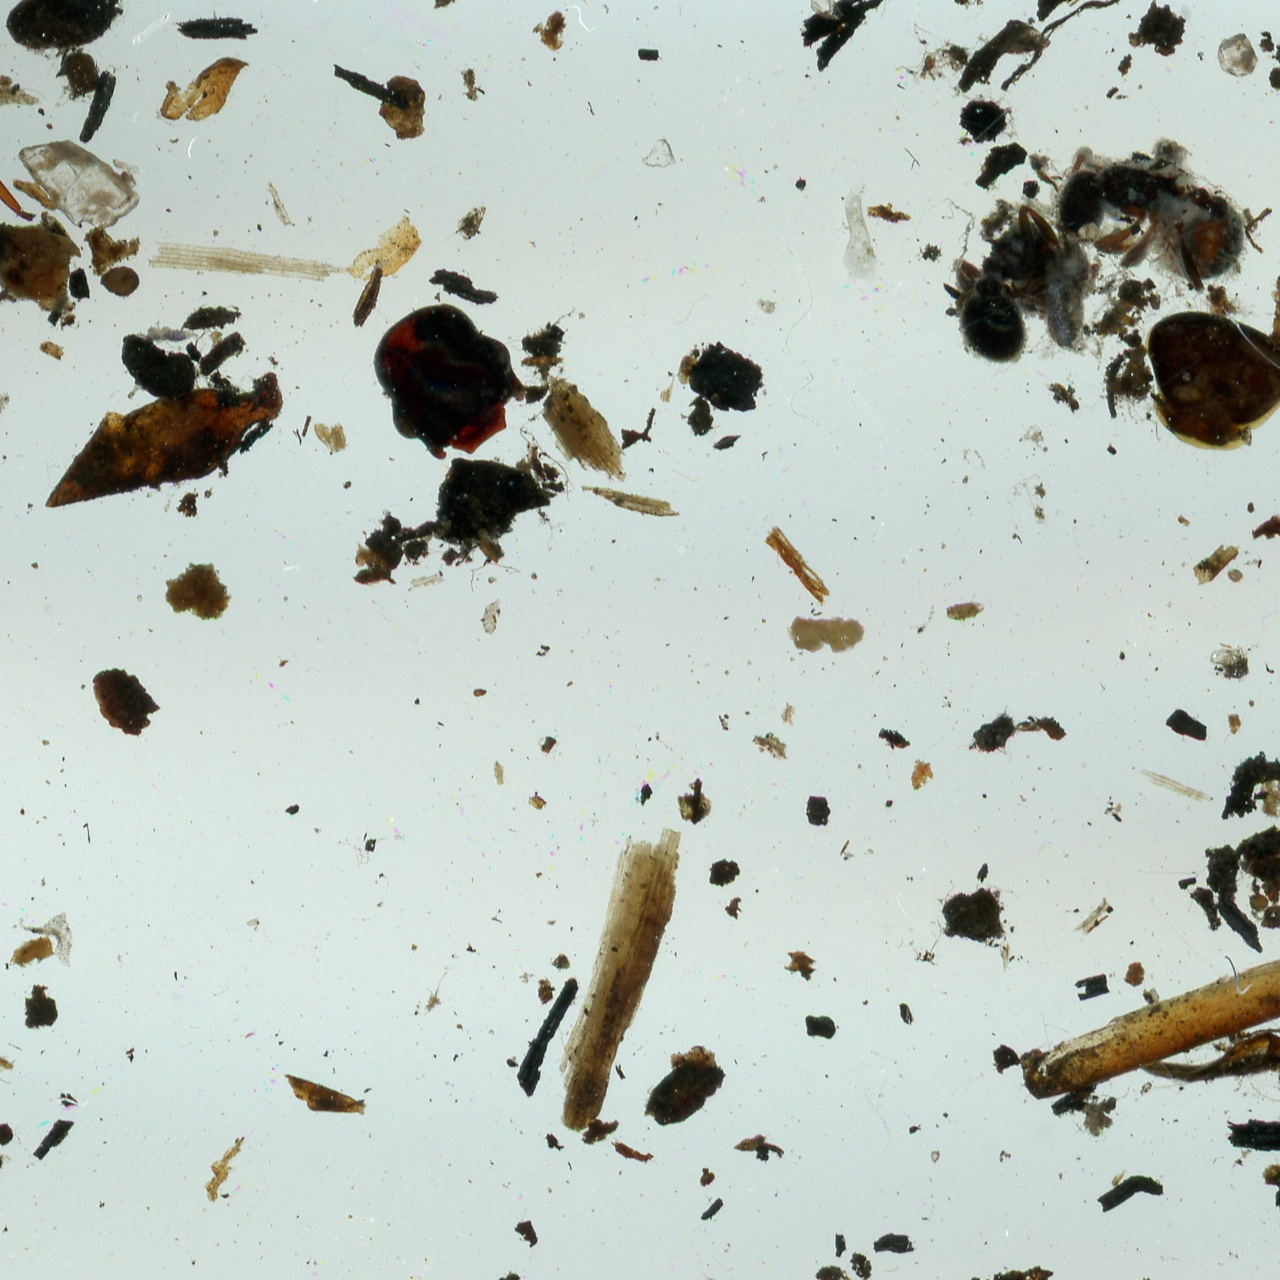arthropod: (1012, 135, 1262, 308), (951, 197, 1063, 372), (1043, 231, 1090, 350)
